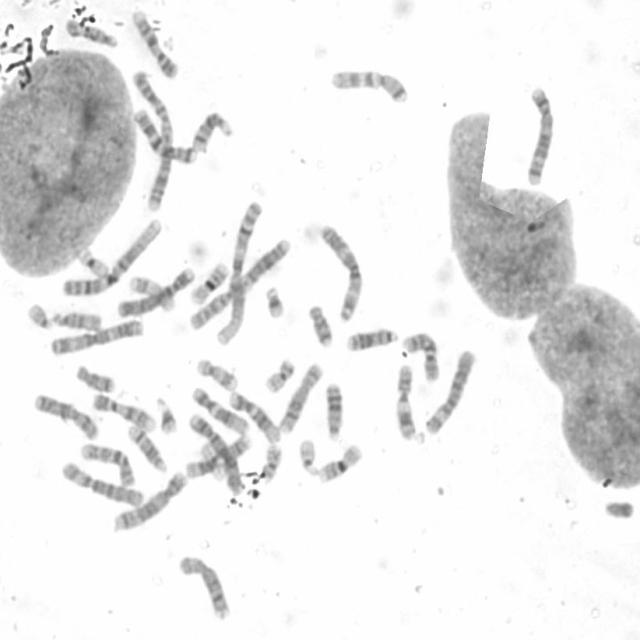A1: (60, 218, 163, 296), (214, 202, 263, 346)
A2: (188, 237, 292, 331), (130, 68, 176, 212)
A3: (320, 223, 365, 324), (49, 317, 145, 357)
B4: (186, 411, 248, 497), (114, 267, 198, 321)
B5: (113, 471, 187, 532), (527, 86, 554, 186)
C10: (79, 443, 137, 488), (401, 330, 440, 381)
C11: (183, 431, 255, 479), (393, 364, 417, 440)
C12: (190, 384, 250, 435), (227, 390, 283, 444)
C6: (425, 349, 476, 437), (62, 460, 146, 508)
C7: (128, 107, 198, 165), (330, 67, 410, 106)
C8: (177, 551, 236, 624), (277, 362, 324, 435)
C9: (130, 10, 180, 80), (94, 393, 158, 432)
D13: (343, 329, 401, 354), (324, 383, 345, 442)
D14: (127, 423, 170, 474), (190, 111, 235, 155)
D15: (64, 17, 119, 48), (50, 308, 103, 332)
E16: (316, 444, 364, 482), (190, 261, 230, 306)
E17: (130, 275, 178, 314), (194, 357, 240, 392)
E18: (305, 304, 336, 349), (75, 364, 116, 394)
F19: (197, 441, 227, 482), (77, 248, 110, 278)
F20: (262, 358, 297, 394), (261, 443, 284, 480)
G21: (262, 286, 287, 321), (156, 396, 178, 435)
G22: (25, 300, 54, 332), (298, 436, 319, 476)
X: (32, 394, 100, 439)
Y: (602, 498, 635, 520)
